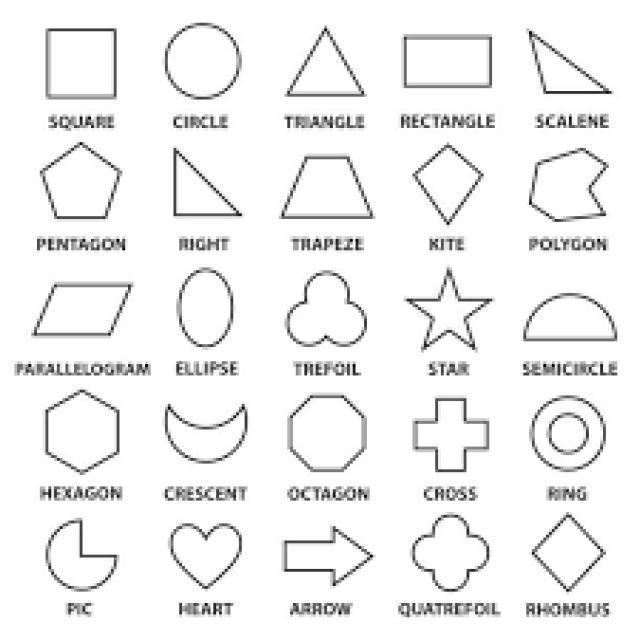circle: (163, 248, 254, 373), (156, 18, 250, 112)
cross: (398, 378, 525, 509)
square: (386, 8, 504, 118), (33, 15, 130, 126)
triangle: (498, 8, 625, 120), (278, 10, 375, 142), (165, 136, 248, 238)
